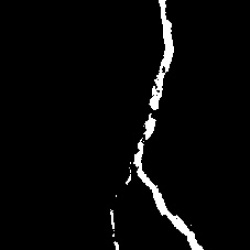crack: (125, 114, 201, 248), (150, 1, 174, 110), (110, 209, 114, 230), (115, 241, 118, 247)
